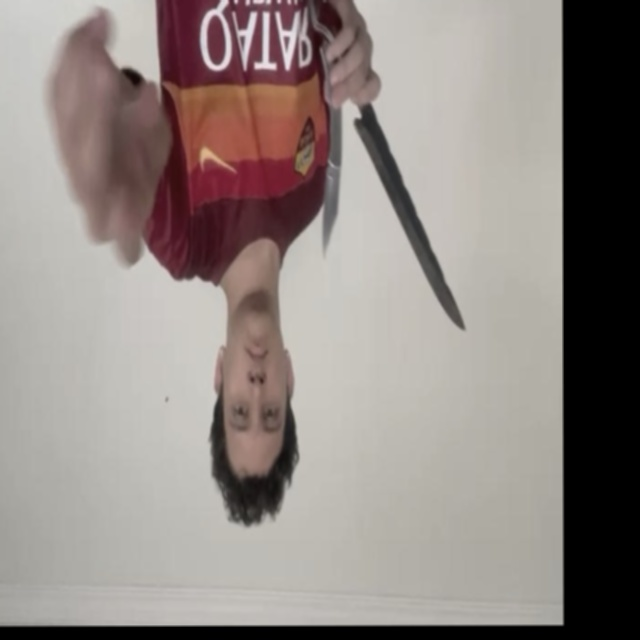Sharp-Object: (354, 115, 466, 332), (322, 160, 340, 259)
